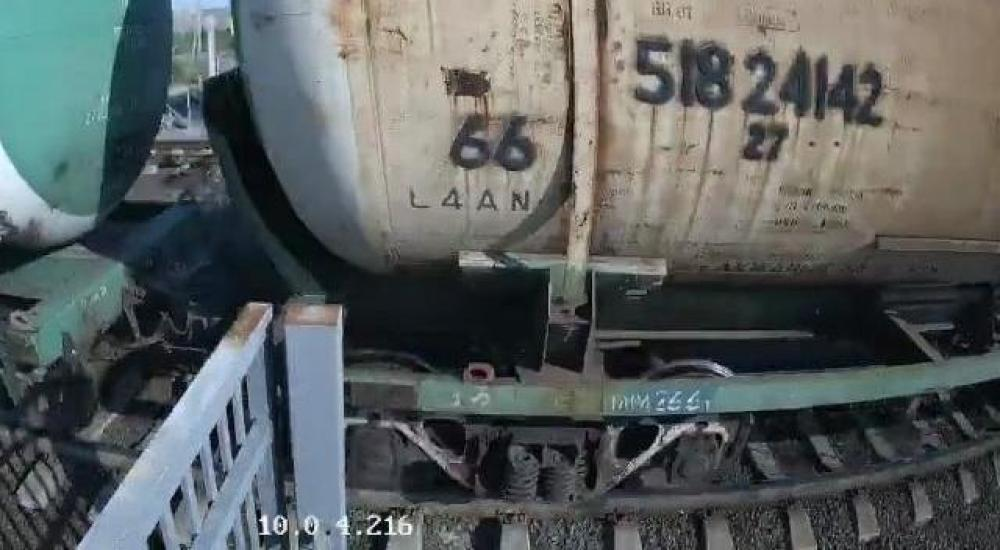Wagon-number: (628, 33, 890, 131)
